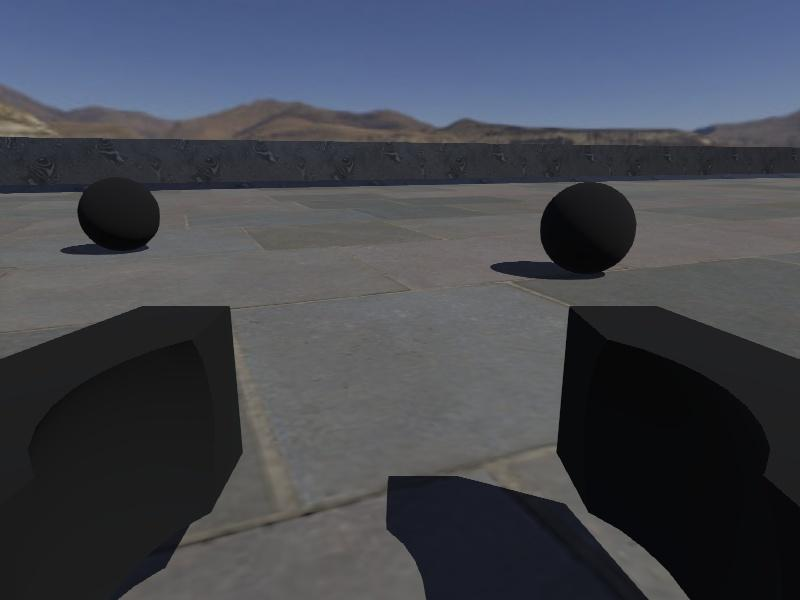black ball: (539, 182, 638, 275), (76, 175, 161, 253)
